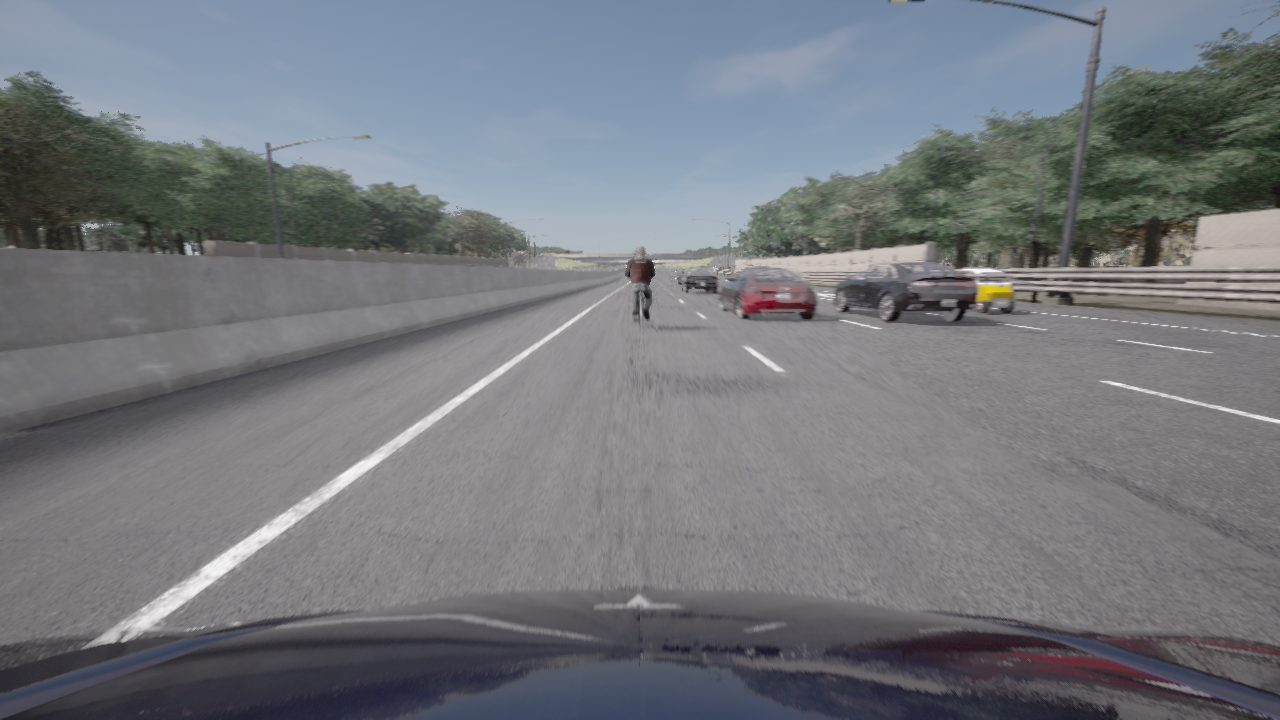cyclist: (0, 588, 1279, 719), (834, 262, 977, 321), (720, 267, 817, 319), (958, 268, 1015, 313), (681, 266, 717, 293), (634, 293, 643, 331), (680, 275, 681, 286), (735, 274, 737, 275)
